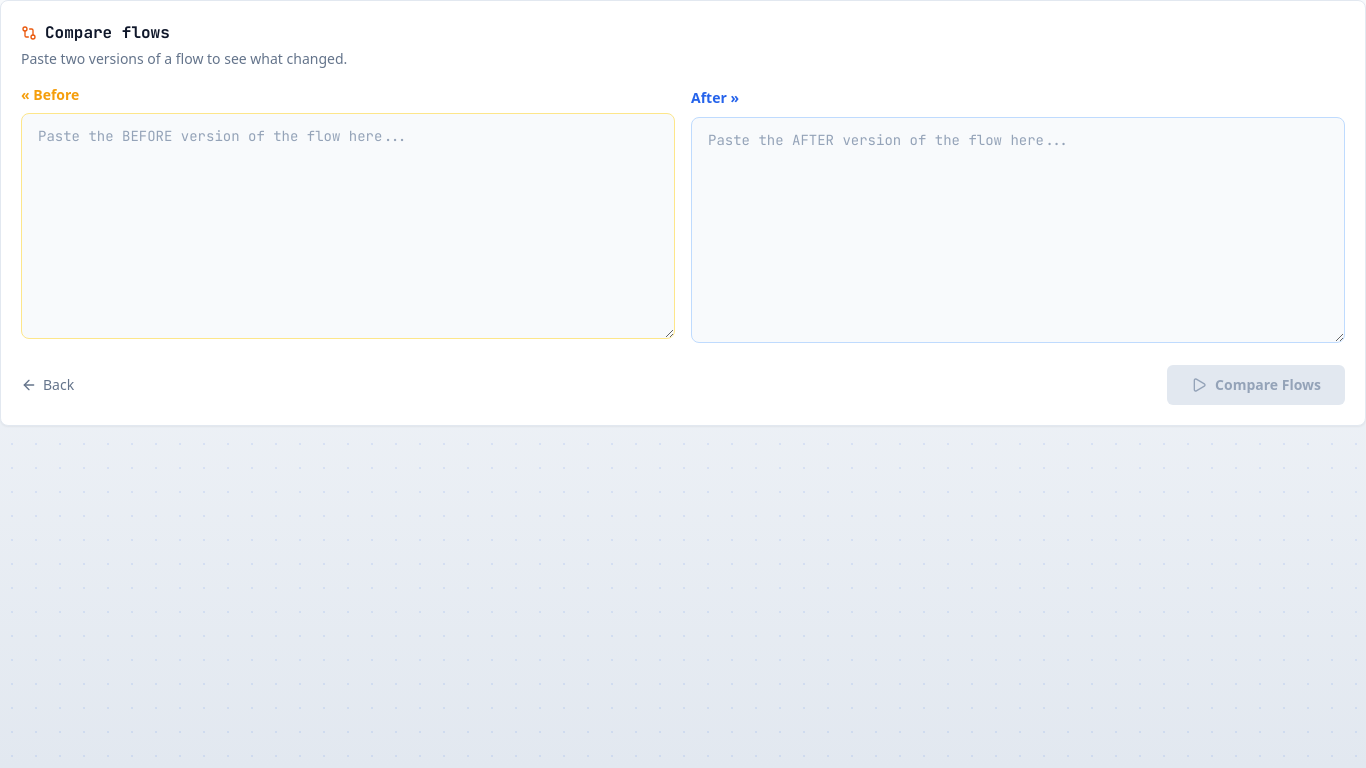
it: DiffPhase › input state — no currentFlow › enables Compare button when both inputs have content
The width and height of the screenshot is (1366, 768).
Step 1. Type "before" into the text box with placeholder "Paste the BEFORE version of the flow here..." → (348, 226), box left=21, top=113, right=675, bottom=339
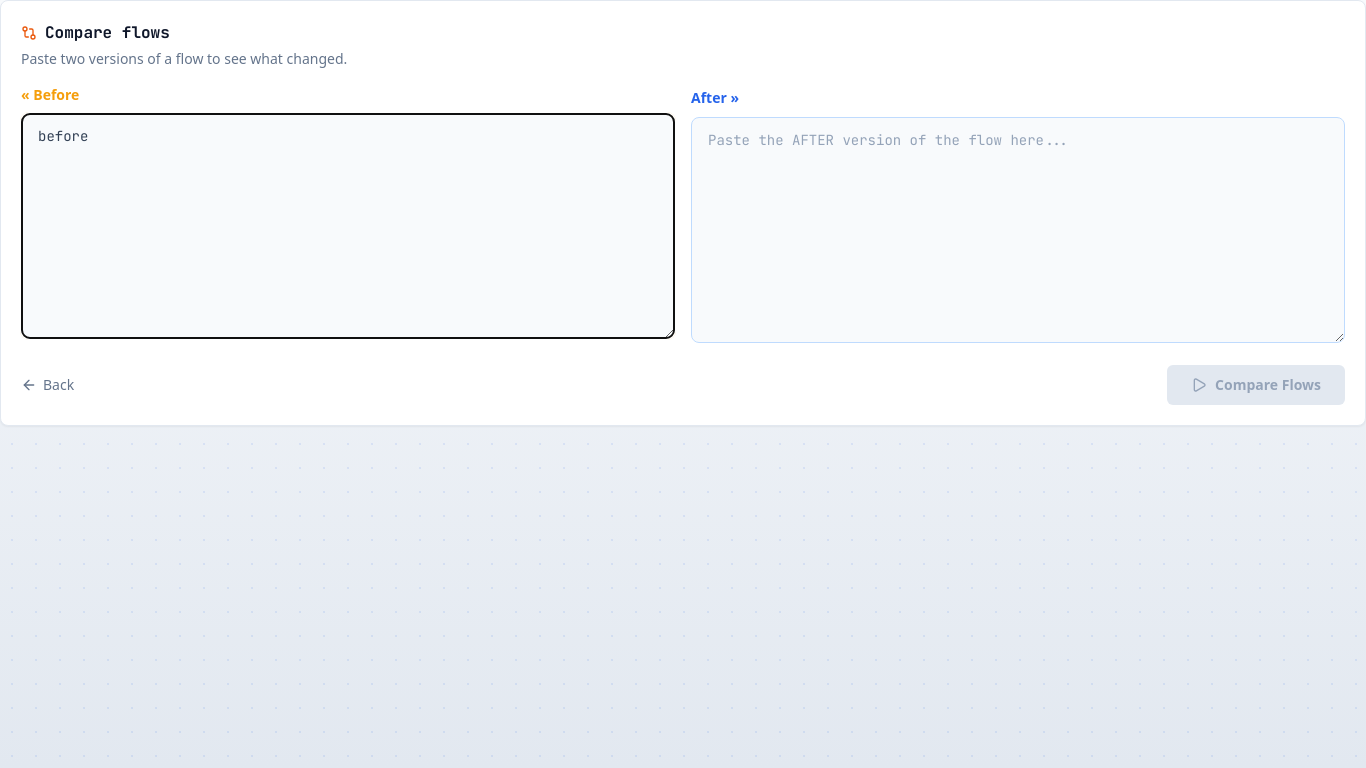
Step 2. Type "after" into the text box with placeholder "Paste the AFTER version of the flow here..." → (1018, 230), box left=691, top=117, right=1345, bottom=343
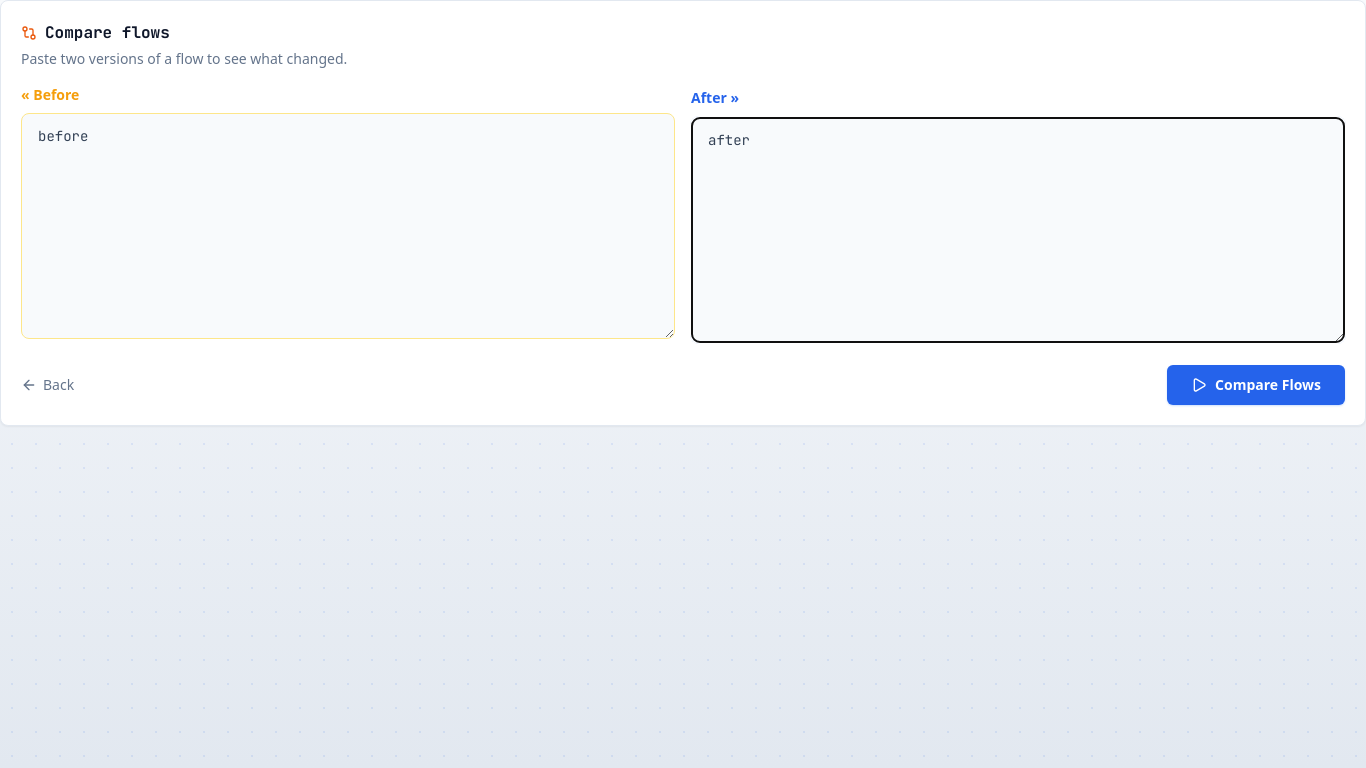
Expected: the button "Compare Flows" is enabled, left=1167, top=365, right=1345, bottom=405
